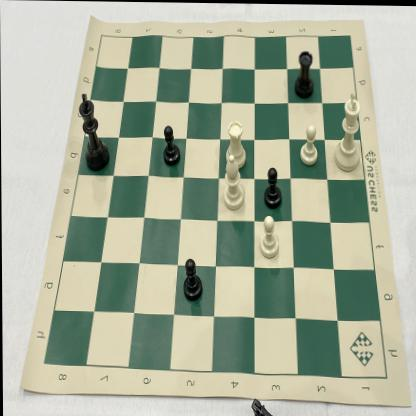black-king: (76, 90, 110, 173)
black-pawn: (179, 254, 205, 306), (262, 164, 284, 212), (163, 119, 181, 170)
black-rook: (291, 47, 318, 101)
white-bishop: (220, 150, 248, 215)
white-king: (330, 85, 364, 176)
white-pawn: (256, 213, 284, 261), (297, 119, 320, 167)
white-rook: (223, 115, 248, 172)
